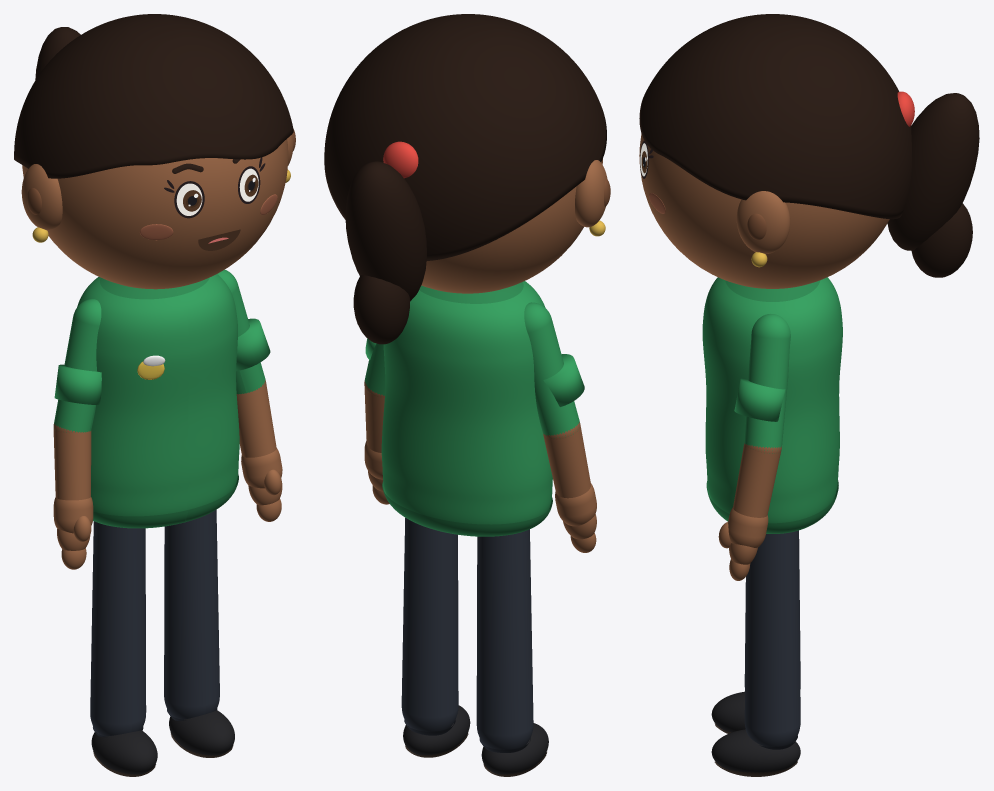
File: kassiere.glb
The picture shows the model from 3 angles, left to right: view 1: azimuth 30°, elevation 25°; view 2: azimuth 150°, elevation 25°; view 3: azimuth 270°, elevation 25°; orthographic projection.
Visible parts, largest first — view 1: kassiere_haar, kassiere_romp, kassiere_hoofd, kassiere_been_R, kassiere_been_L, kassiere_bovenarm_R, kassiere_onderarm_R, kassiere_onderarm_L, kassiere_schoen_R, kassiere_schoen_L, kassiere_oor_R, kassiere_romp_boord (+8 smaller); view 2: kassiere_haar, kassiere_romp, kassiere_been_R, kassiere_been_L, kassiere_staart, kassiere_hoofd, kassiere_bovenarm_R, kassiere_staart_punt, kassiere_onderarm_R, kassiere_romp_boord, kassiere_schoen_R, kassiere_oor_R (+7 smaller); view 3: kassiere_haar, kassiere_romp, kassiere_hoofd, kassiere_been_L, kassiere_staart, kassiere_bovenarm_L, kassiere_staart_punt, kassiere_schoen_L, kassiere_onderarm_L, kassiere_oor_L, kassiere_mouwzoom_L, kassiere_manchet_L (+3 smaller).
Part boxes in pixels (box(x1,y1,x2,y2)): kassiere_haar: box(14, 14, 293, 178); kassiere_romp: box(77, 274, 239, 516); kassiere_hoofd: box(22, 139, 288, 289); kassiere_been_R: box(90, 521, 146, 736); kassiere_been_L: box(164, 509, 219, 719); kassiere_bovenarm_R: box(53, 299, 101, 432); kassiere_onderarm_R: box(53, 423, 91, 500); kassiere_onderarm_L: box(236, 382, 276, 457); kassiere_schoen_R: box(91, 730, 157, 774); kassiere_schoen_L: box(169, 710, 234, 755); kassiere_oor_R: box(21, 164, 62, 230); kassiere_romp_boord: box(93, 474, 238, 528); kassiere_haar: box(324, 14, 606, 260); kassiere_romp: box(381, 281, 552, 524); kassiere_been_R: box(476, 529, 533, 749); kassiere_been_L: box(401, 517, 458, 731); kassiere_staart: box(345, 161, 426, 301); kassiere_hoofd: box(421, 159, 602, 293); kassiere_bovenarm_R: box(524, 302, 579, 438); kassiere_staart_punt: box(353, 275, 409, 344); kassiere_onderarm_R: box(543, 425, 590, 498); kassiere_romp_boord: box(382, 481, 552, 536); kassiere_schoen_R: box(481, 723, 548, 774); kassiere_oor_R: box(575, 160, 607, 227); kassiere_haar: box(639, 14, 911, 219); kassiere_romp: box(702, 277, 842, 523); kassiere_hoofd: box(639, 133, 889, 288); kassiere_been_L: box(744, 530, 800, 746); kassiere_staart: box(887, 93, 979, 250); kassiere_bovenarm_L: box(744, 314, 790, 453); kassiere_staart_punt: box(911, 203, 972, 277); kassiere_schoen_L: box(711, 729, 800, 772); kassiere_onderarm_L: box(733, 443, 780, 517); kassiere_oor_L: box(736, 191, 790, 254); kassiere_mouwzoom_L: box(734, 378, 785, 421); kassiere_manchet_L: box(728, 507, 768, 547).
Size of the model in its own units: 0.668 by 1.75 by 0.7425.
